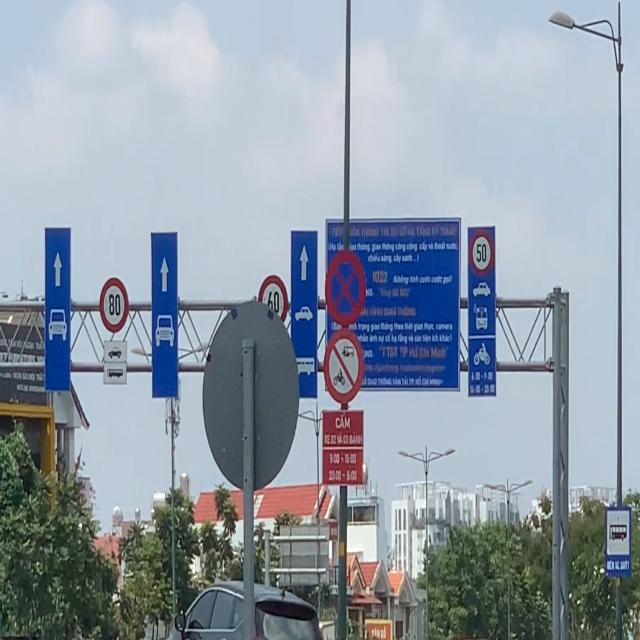Ben xe buyt: (604, 504, 632, 577)
Cam con lai: (322, 329, 364, 405)
Cam dung va do: (322, 245, 368, 330)
Toc do toi da: (99, 275, 131, 334), (258, 276, 288, 326), (470, 232, 493, 274)
